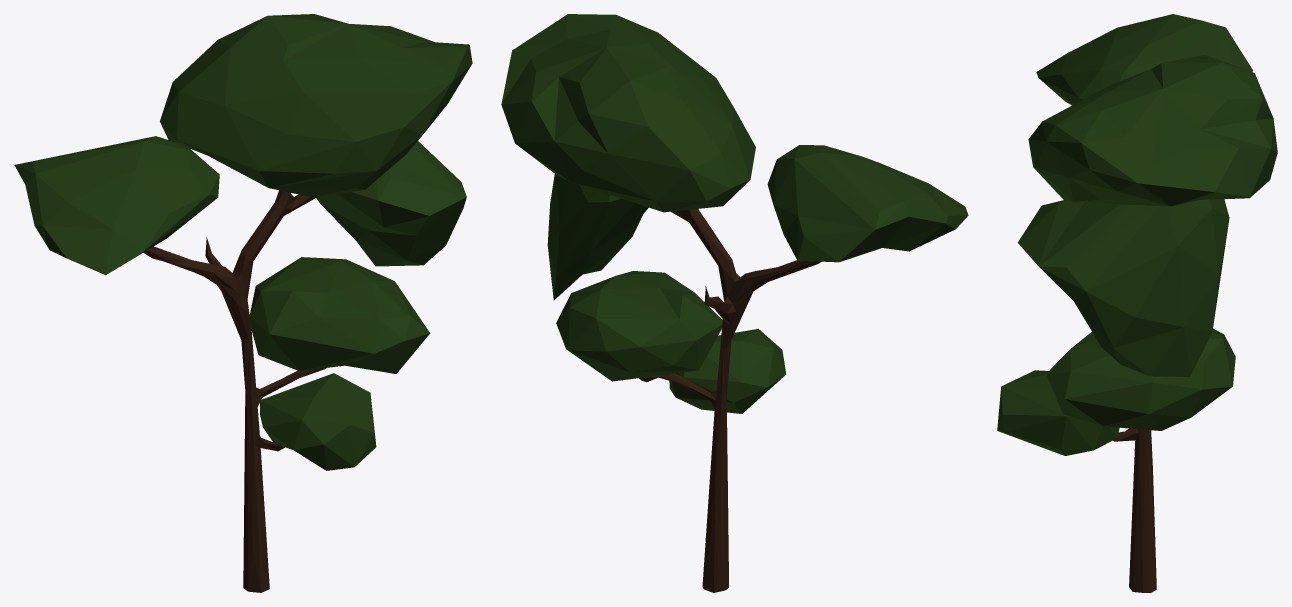
The model's file is SM_tree_jungle_02.fbx.
3 renders of one model, left to right at view 1: azimuth 30°, elevation 25°; view 2: azimuth 150°, elevation 25°; view 3: azimuth 270°, elevation 25°, orthographic. The views are drawn at different scales.
Parts seen in each view (by area): view 1: Object002; view 2: Object002; view 3: Object002.
Part boxes in pixels (x1=…): Object002: x1=14, y1=14, x2=472, y2=592; Object002: x1=501, y1=14, x2=968, y2=592; Object002: x1=997, y1=14, x2=1277, y2=592.
Bounding box in the file's own units: 313 × 363 × 167.
